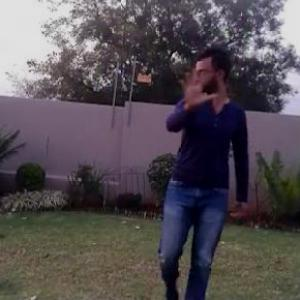follow_hand: (176, 63, 220, 109)
